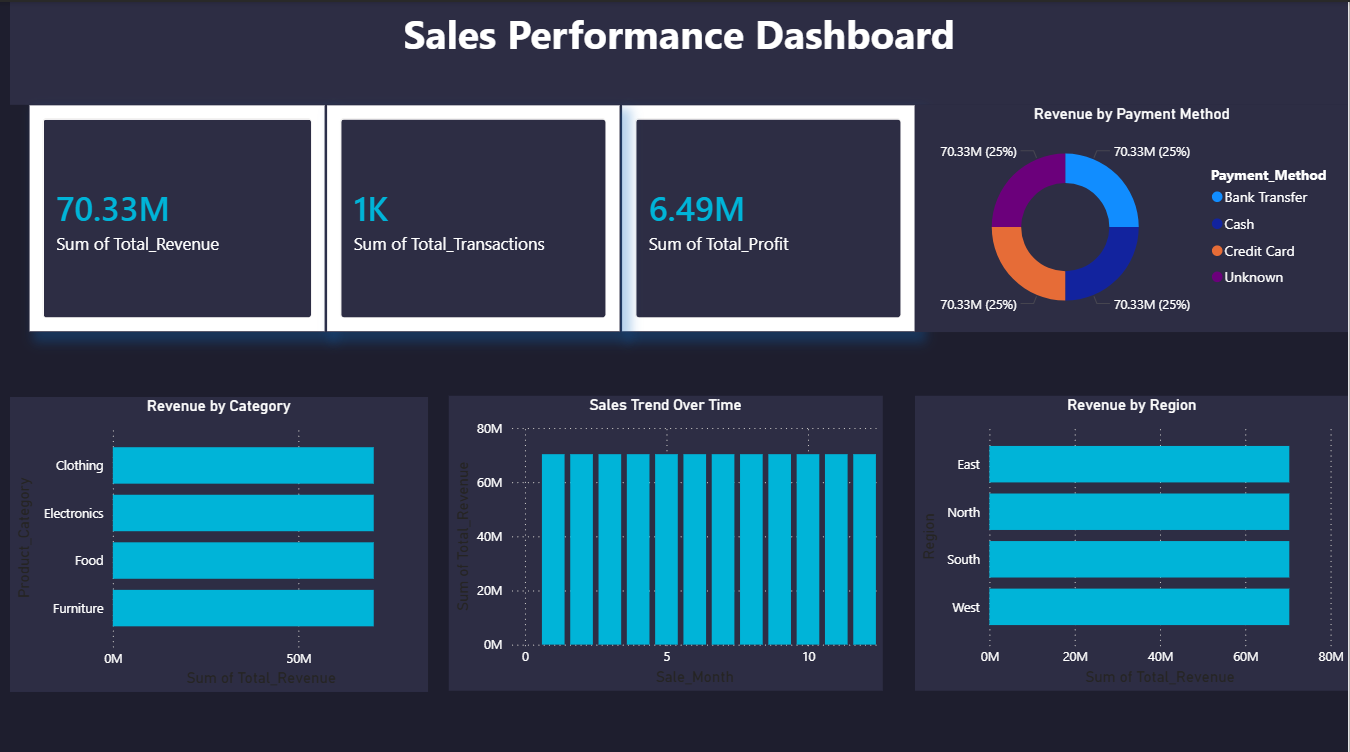

This screenshot's page, from the dashboard's own definition file:
{"tool":"powerbi","page":{"name":"Page 1","canvas":[1280,720],"ordinal":0},"visuals":[{"type":"textbox","box":[9.6,0,1270.7,97.4],"z":0},{"type":"cardVisual","fields":{"Data":["Sum(gold_kpi_summary.Total_Revenue)"]},"box":[26.7,97.7,282.6,216.3],"z":1000},{"type":"cardVisual","fields":{"Data":["Sum(gold_kpi_summary.Total_Profit)"]},"box":[589.5,97.7,279.1,216.3],"z":2000},{"type":"cardVisual","fields":{"Data":["Sum(gold_kpi_summary.Total_Transactions)"]},"box":[309.3,97.7,279.1,216.3],"z":3000},{"type":"clusteredBarChart","title":"Revenue by Category","fields":{"Category":["gold_sales_by_category.Product_Category"],"Y":["Sum(gold_kpi_summary.Total_Revenue)"]},"box":[9.3,374.4,396.5,280.2],"z":4000},{"type":"clusteredBarChart","title":"Revenue by Region","fields":{"Category":["gold_sales_by_region.Region"],"Y":["Sum(gold_kpi_summary.Total_Revenue)"]},"box":[868.6,373.3,411.6,280.2],"z":5000},{"type":"clusteredColumnChart","title":"Sales Trend Over Time","fields":{"Category":["gold_sales_by_time.Sale_Month"],"Y":["Sum(gold_kpi_summary.Total_Revenue)"]},"box":[425.6,373.3,411.6,280.2],"z":6000},{"type":"donutChart","title":"Revenue by Payment Method","fields":{"Category":["gold_sales_by_payment.Payment_Method"],"Y":["Sum(gold_kpi_summary.Total_Revenue)"]},"box":[868.6,97.7,411.6,216.3],"z":6001}]}

Visuals, with their boxes in screenshot pixels (x1, y1, x2, y2), scaled from the page's 1280x720 canvas onto the 1350x752 screenshot:
textbox: bbox=(10, 0, 1349, 102)
cardVisual - Sum(gold_kpi_summary.Total_Revenue): bbox=(28, 102, 326, 328)
cardVisual - Sum(gold_kpi_summary.Total_Profit): bbox=(622, 102, 916, 328)
cardVisual - Sum(gold_kpi_summary.Total_Transactions): bbox=(326, 102, 621, 328)
"Revenue by Category" clusteredBarChart: bbox=(10, 391, 428, 684)
"Revenue by Region" clusteredBarChart: bbox=(916, 390, 1349, 683)
"Sales Trend Over Time" clusteredColumnChart: bbox=(449, 390, 883, 683)
"Revenue by Payment Method" donutChart: bbox=(916, 102, 1349, 328)
